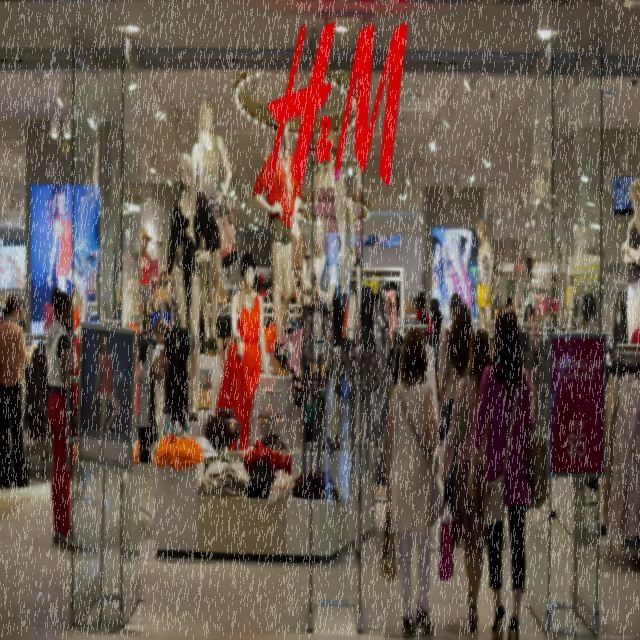pessoa: (162, 93, 356, 454), (468, 306, 536, 640), (378, 327, 444, 639), (437, 328, 496, 634), (44, 124, 102, 325), (44, 287, 86, 553), (0, 292, 38, 490), (90, 327, 130, 473), (611, 172, 640, 352), (432, 215, 476, 326), (438, 304, 473, 438), (437, 293, 462, 451), (125, 219, 164, 317), (476, 216, 494, 356), (572, 224, 602, 292), (426, 308, 444, 404), (413, 291, 433, 340), (573, 294, 597, 334), (71, 460, 89, 500), (573, 520, 597, 548), (429, 298, 446, 334), (153, 319, 169, 346), (524, 252, 536, 283), (524, 300, 536, 322), (621, 536, 640, 548), (72, 327, 82, 343), (506, 296, 514, 306)
